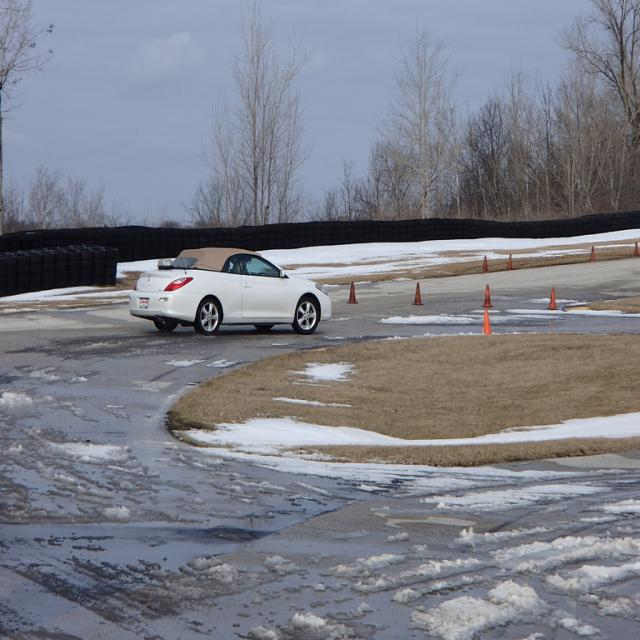car: (124, 243, 335, 335)
